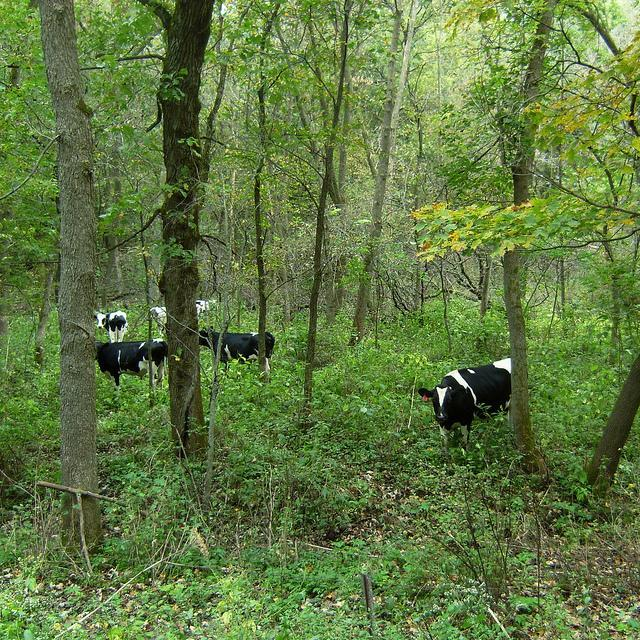cow: (418, 358, 510, 449), (93, 337, 169, 391), (197, 329, 274, 370), (148, 299, 210, 335), (93, 309, 126, 342)
